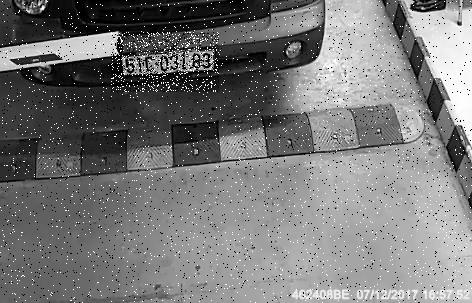License-plate: (112, 33, 220, 93)
